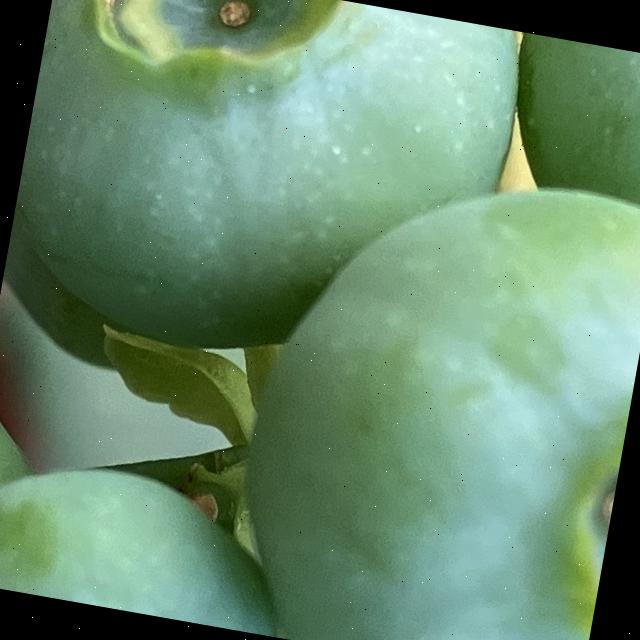Blueberries: (0, 0, 532, 406), (216, 135, 640, 640), (0, 438, 333, 640)
